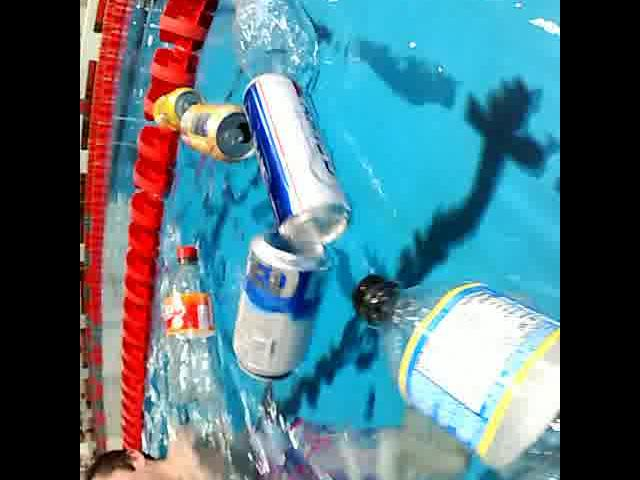Bottle: (344, 260, 560, 480), (158, 238, 228, 404), (218, 0, 322, 80)
Can: (233, 67, 359, 252), (232, 224, 336, 388), (180, 100, 264, 172), (147, 83, 207, 133)
